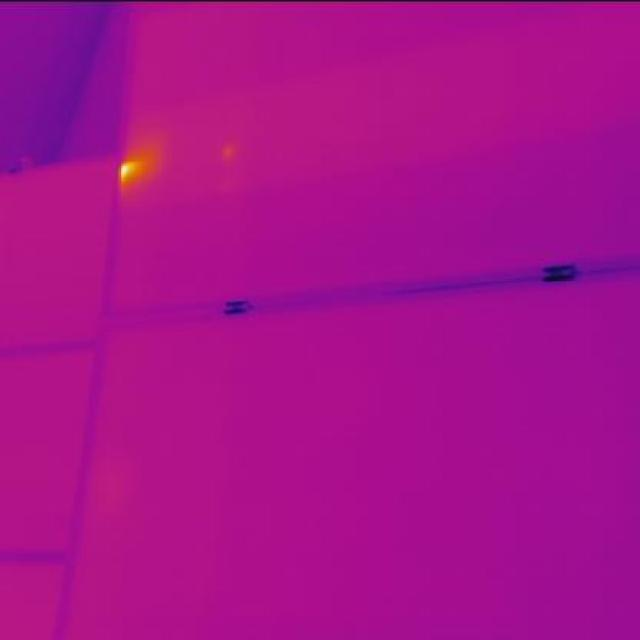hotspot: (118, 135, 160, 187)
